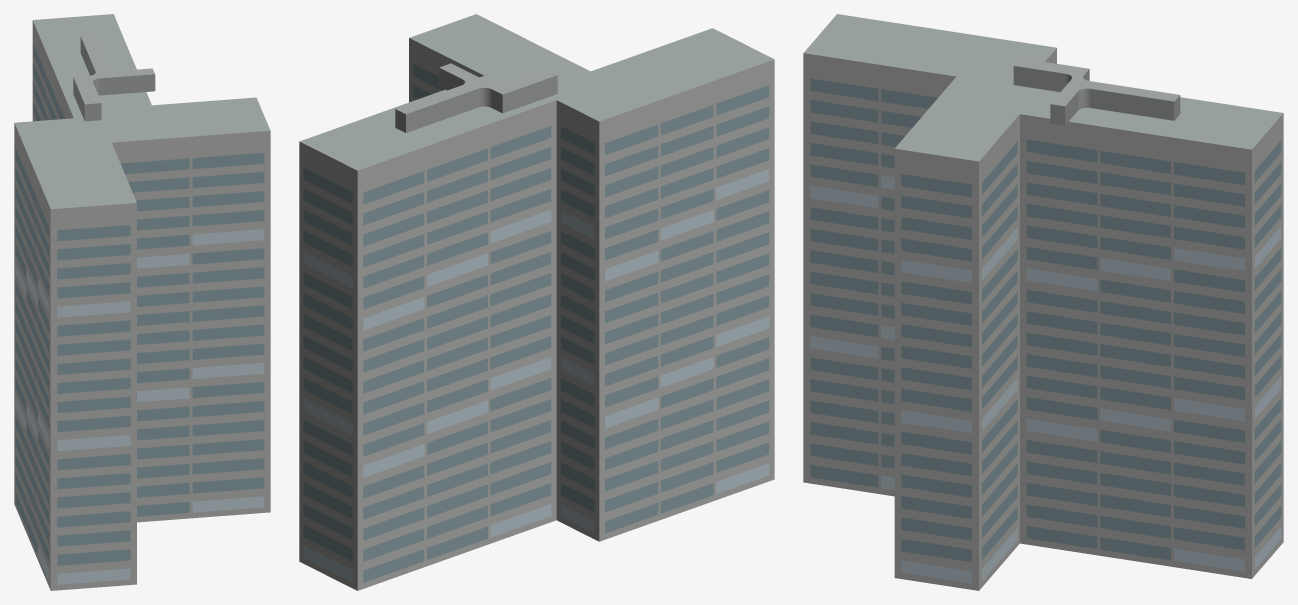
File: apt-a13484102.glb
3 renders of one model, left to right at view 1: azimuth 30°, elevation 25°; view 2: azimuth 150°, elevation 25°; view 3: azimuth 270°, elevation 25°, orthographic. The views are drawn at different scales.
Parts seen in each view (by area): view 1: apt-a13484102; view 2: apt-a13484102; view 3: apt-a13484102.
Part boxes in pixels (x1=…): apt-a13484102: x1=14, y1=14, x2=270, y2=590; apt-a13484102: x1=299, y1=14, x2=774, y2=590; apt-a13484102: x1=803, y1=14, x2=1283, y2=590.
Size of the model in its own units: 39.52 by 56 by 54.31.
